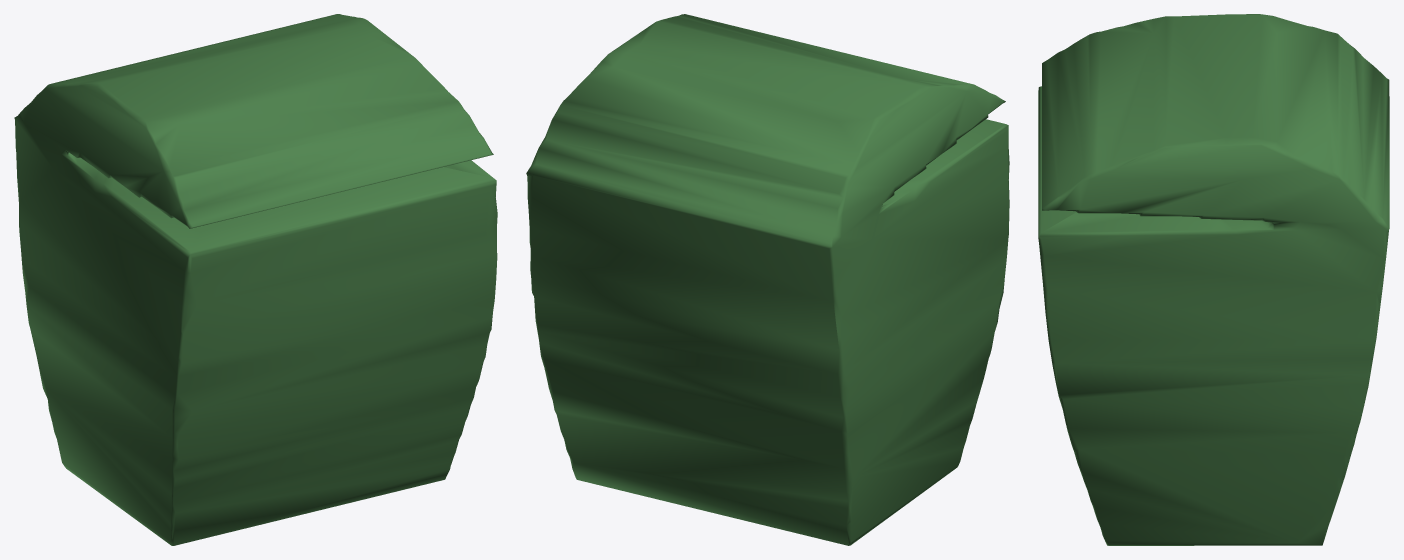
File: trash.fbx
3 views of the same model, side by side, from view 1: azimuth 30°, elevation 25°; view 2: azimuth 150°, elevation 25°; view 3: azimuth 270°, elevation 25° (orthographic).
Visible parts, largest first — view 1: Куб; view 2: Куб; view 3: Куб.
Part boxes in pixels (x1,y1,x2,y2): Куб: (14, 14, 497, 545); Куб: (526, 14, 1009, 545); Куб: (1038, 14, 1389, 545).
Bounding box in the file's own units: 206 × 251 × 199.
